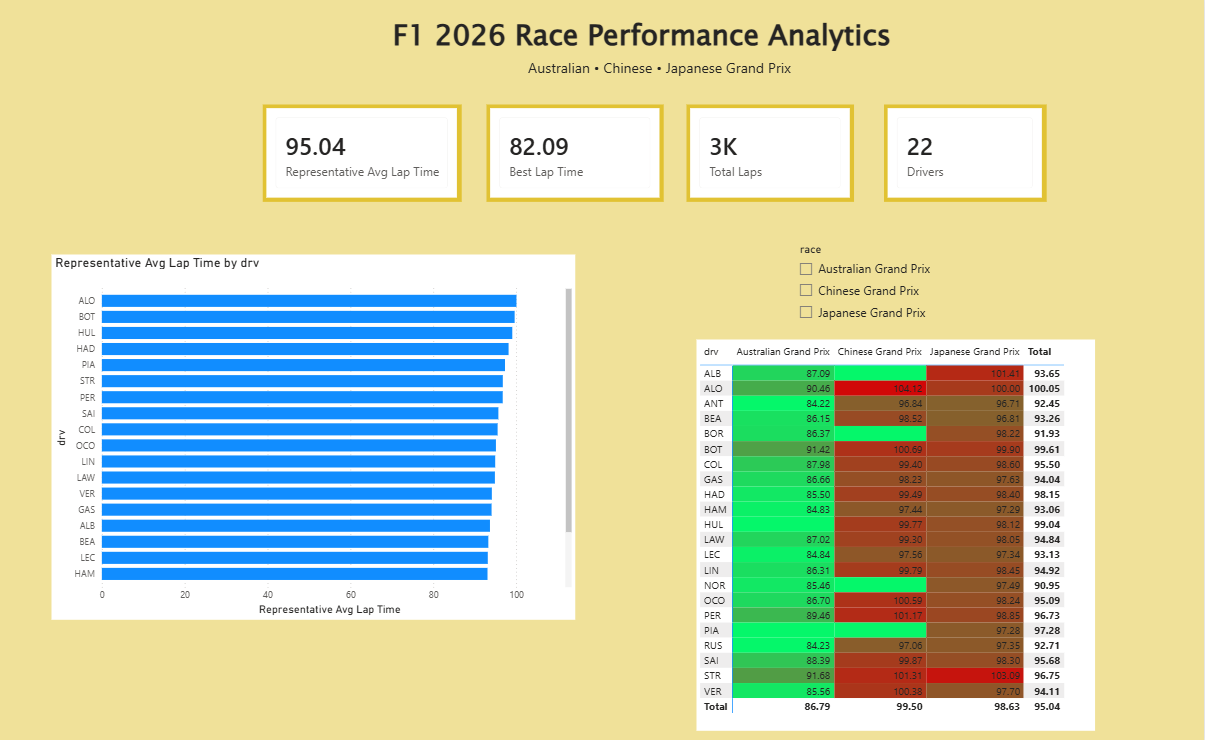

Layout of this report page (visuals, bound fields, positions):
{"tool":"powerbi","page":{"name":"Overview","canvas":[1600,1000],"ordinal":0},"visuals":[{"type":"clusteredBarChart","fields":{"Category":["f1_2026_three_races.drv"],"Y":["f1_2026_three_races.Representative Avg Lap Time"]},"box":[76.1,347.2,692.8,482.8],"z":0},{"type":"slicer","fields":{"Values":["f1_2026_three_races.race"]},"box":[1053.2,327.4,281.1,185.2],"z":1000},{"type":"cardVisual","fields":{"Data":["f1_2026_three_races.Representative Avg Lap Time"]},"box":[355.5,148.8,262.9,129],"z":2000},{"type":"cardVisual","fields":{"Data":["f1_2026_three_races.Best Lap Time"]},"box":[651.5,148.8,234.8,129],"z":3000},{"type":"cardVisual","fields":{"Data":["f1_2026_three_races.Drivers"]},"box":[1177.3,148.8,214.9,129],"z":4000},{"type":"cardVisual","fields":{"Data":["f1_2026_three_races.Total Laps"]},"box":[916,148.8,221.6,129],"z":5000},{"type":"pivotTable","fields":{"Rows":["f1_2026_three_races.drv"],"Columns":["f1_2026_three_races.race"],"Values":["f1_2026_three_races.Representative Avg Lap Time"]},"box":[929.2,459.7,527.4,517.5],"z":6000},{"type":"textbox","box":[522.8,25.1,732.2,107.2],"z":6001}]}

Visuals, with their boxes in screenshot pixels (x1, y1, x2, y2), scaled from the page's 1600x1000 canvas onto the 1205x740 screenshot:
clusteredBarChart - f1_2026_three_races.drv x f1_2026_three_races.Representative Avg Lap Time: 57, 257, 579, 614
slicer - f1_2026_three_races.race: 793, 242, 1005, 379
cardVisual - f1_2026_three_races.Representative Avg Lap Time: 268, 110, 466, 206
cardVisual - f1_2026_three_races.Best Lap Time: 491, 110, 667, 206
cardVisual - f1_2026_three_races.Drivers: 887, 110, 1049, 206
cardVisual - f1_2026_three_races.Total Laps: 690, 110, 857, 206
pivotTable - f1_2026_three_races.drv x f1_2026_three_races.race: 700, 340, 1097, 723
textbox: 394, 19, 945, 98
